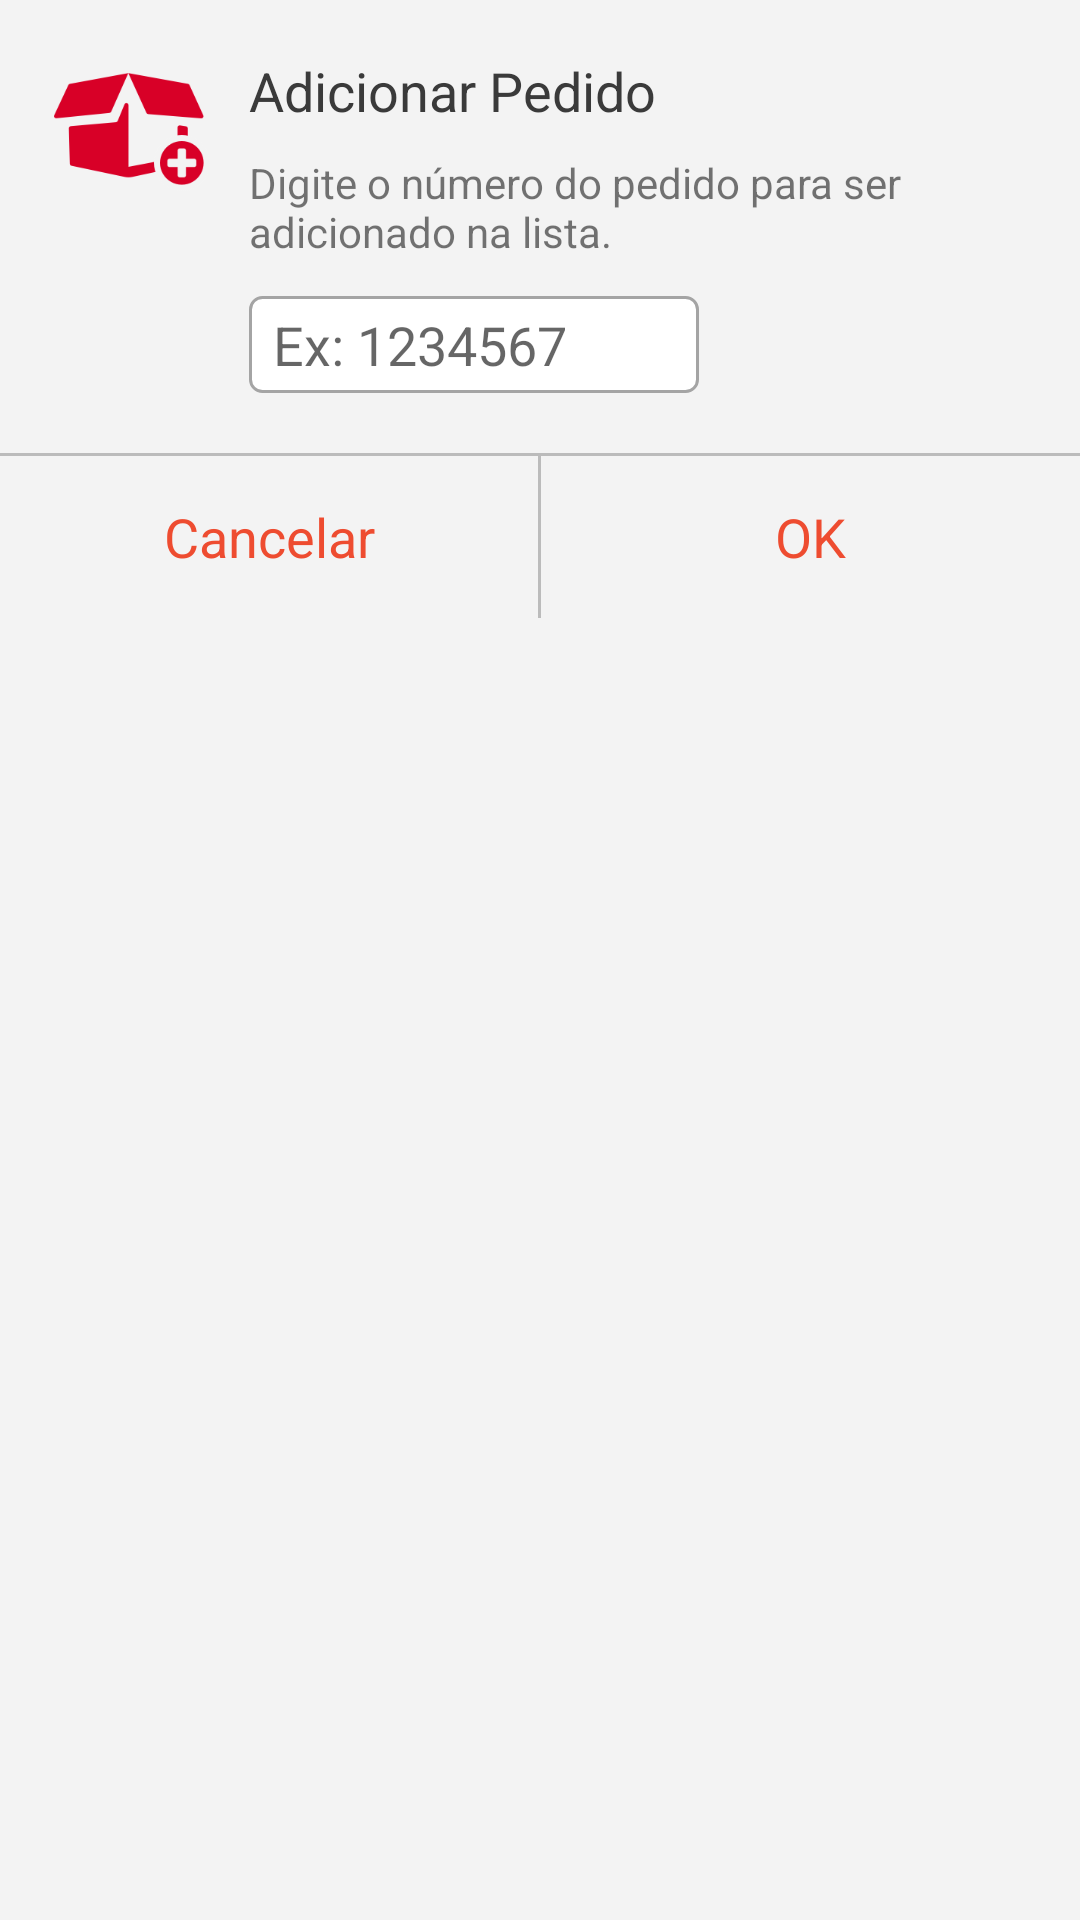

Screen size 1080x1920. Icon name, then its center in pixels as [x,y]:
box plus: [129,129]
